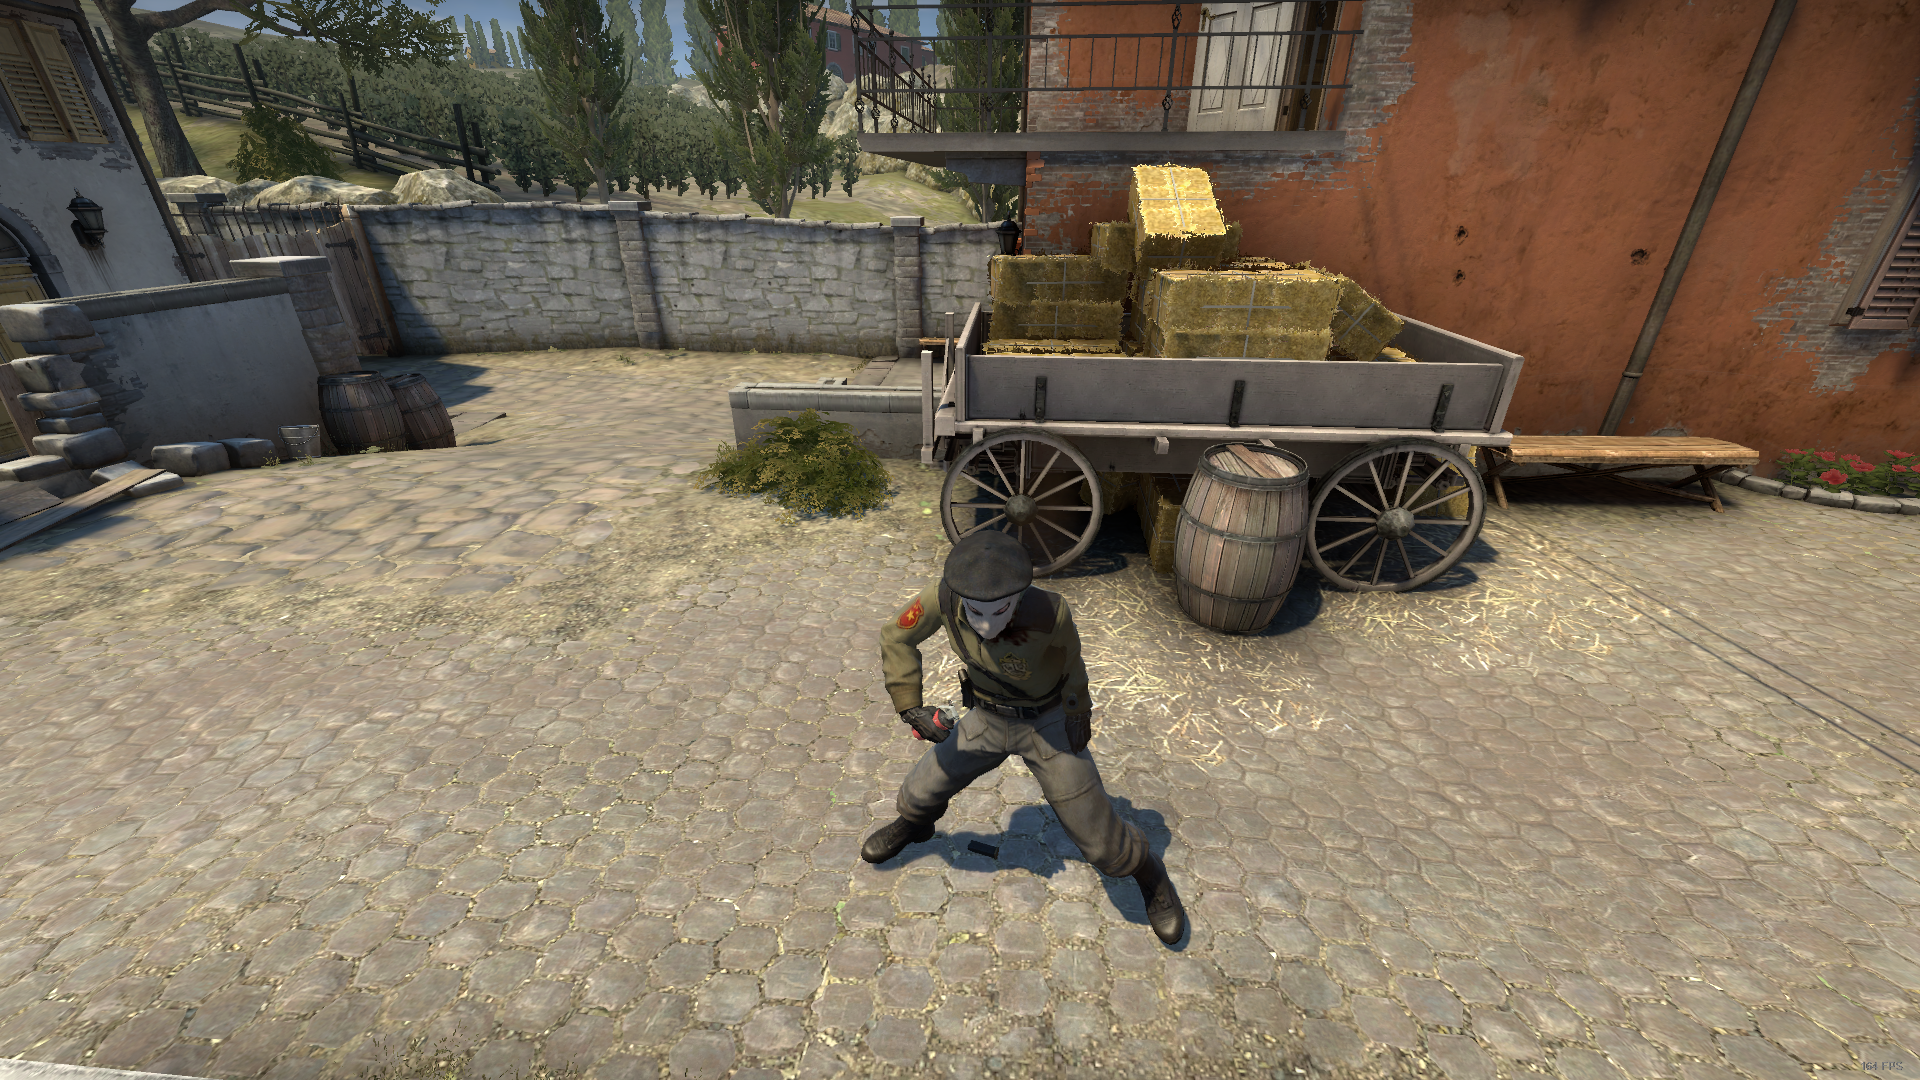t: (861, 529, 1189, 944)
